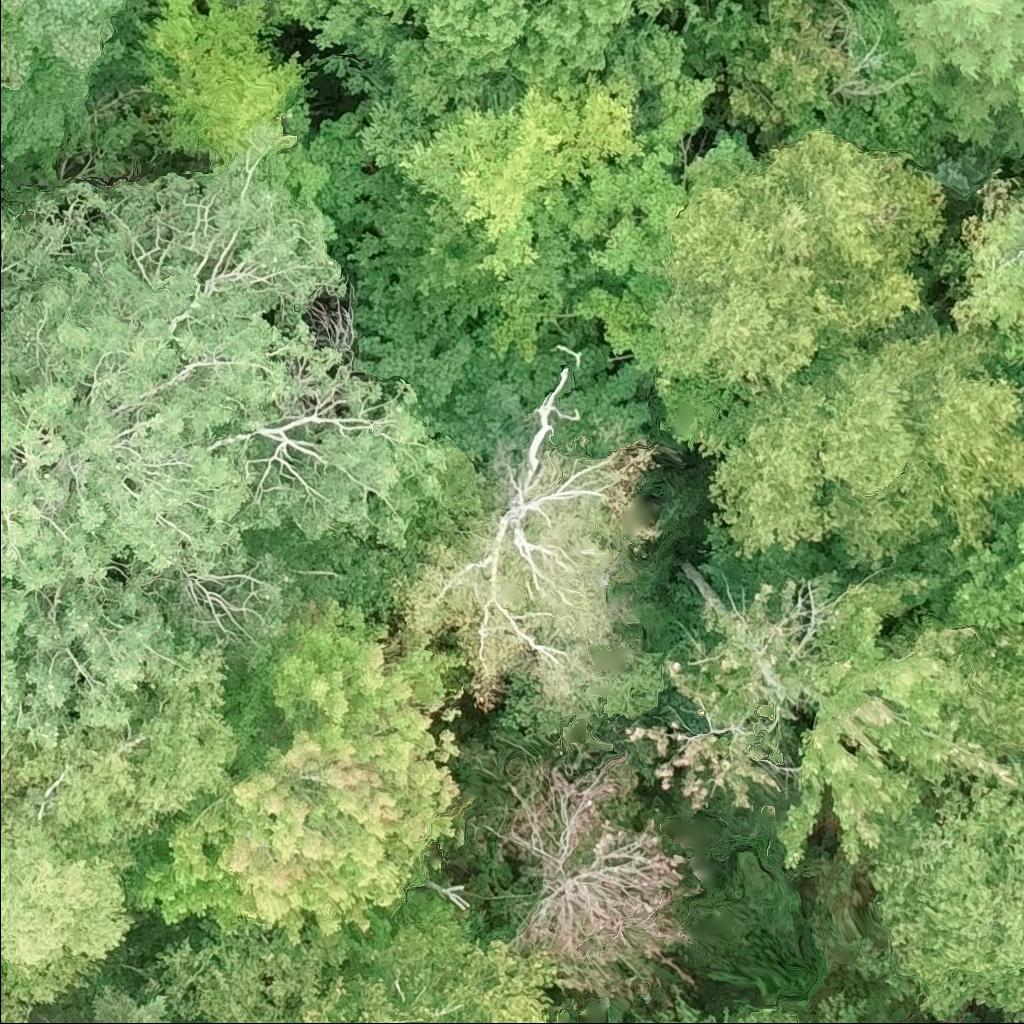crown: (0, 136, 445, 753), (125, 595, 471, 961), (342, 48, 651, 368), (696, 312, 1023, 573), (653, 123, 949, 396), (781, 570, 1022, 880), (496, 739, 706, 1009), (624, 560, 847, 811), (0, 641, 238, 873), (351, 301, 655, 468), (868, 763, 1023, 1023), (294, 889, 561, 1023), (276, 0, 689, 83), (0, 810, 139, 1023), (570, 132, 689, 373), (885, 0, 1023, 164), (136, 923, 344, 1023), (943, 169, 1023, 370), (910, 490, 1023, 630), (0, 0, 127, 86), (632, 988, 870, 1023), (60, 982, 191, 1023), (1016, 69, 1023, 119), (0, 152, 4, 177), (1021, 424, 1023, 430), (1021, 182, 1023, 187)
